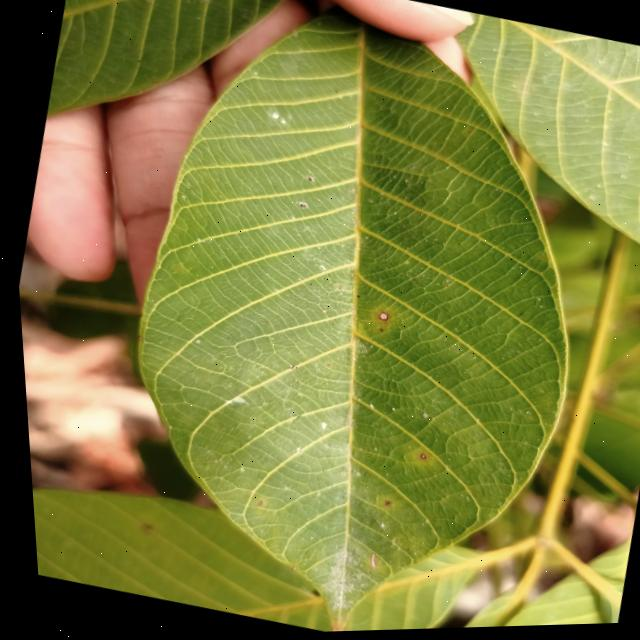Colletotrichum: (372, 313, 385, 324), (412, 456, 420, 462)
